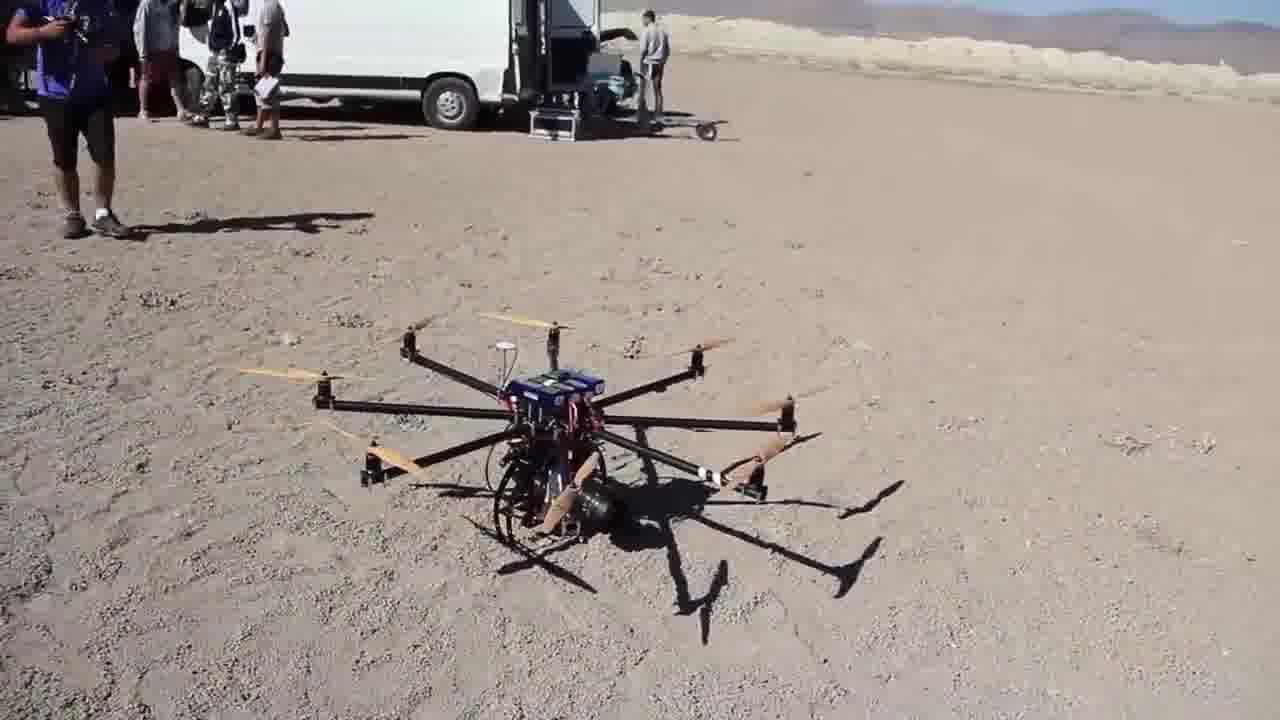drone: (282, 287, 804, 571)
